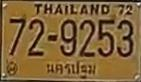2: (27, 18, 43, 55), (79, 19, 94, 56)
3: (116, 19, 133, 56)
5: (97, 18, 114, 56)
7: (9, 17, 25, 55)
9: (59, 18, 76, 55)
NPT: (42, 61, 97, 79)
